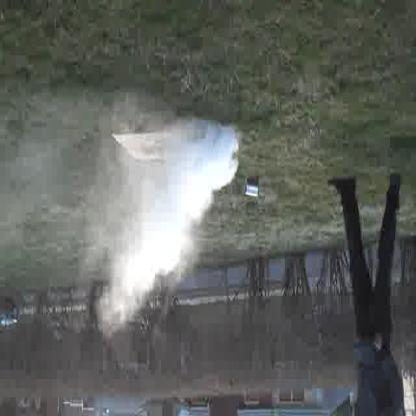Smoke: (96, 127, 236, 312)
